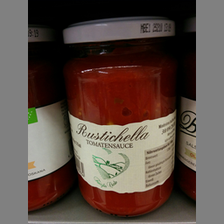tomato_sauce: (61, 15, 180, 220)
